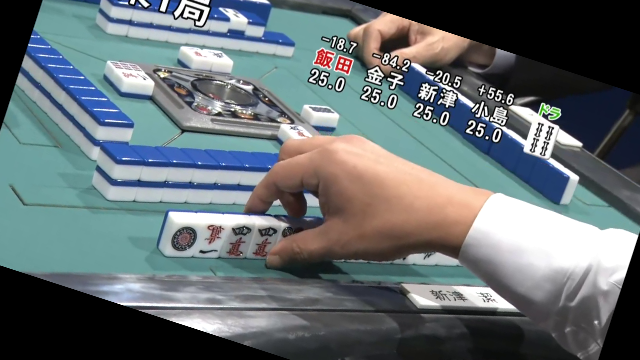Tehai: (152, 197, 486, 278)
